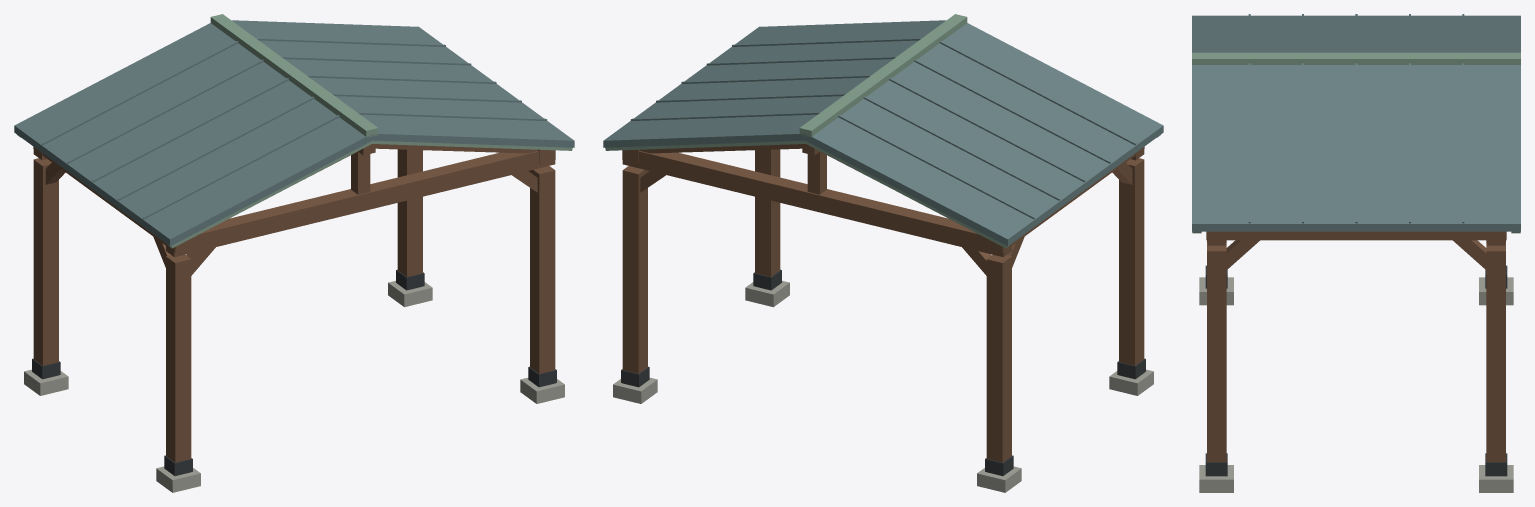
The model's file is canopy.glb.
3 views of the same model, side by side, from view 1: azimuth 30°, elevation 25°; view 2: azimuth 150°, elevation 25°; view 3: azimuth 270°, elevation 25° (orthographic). The views are drawn at different scales.
Visible parts, largest first — view 1: Roof_Canopy_Panel_-1, Roof_Canopy_Panel_1, canopy_Tie-col.001, canopy_Post-col.001, canopy_Post-col.003, canopy_Post-col, Roof_canopy_Cap, canopy_Post-col.002, canopy_PrincipalRafter-col.003, canopy_Kingpost-col.001, canopy_Pad-col, canopy_Pad-col.002 (+9 smaller); view 2: Roof_Canopy_Panel_-1, Roof_Canopy_Panel_1, canopy_Tie-col, canopy_Post-col, canopy_Post-col.002, canopy_Post-col.001, Roof_canopy_Cap, canopy_Post-col.003, canopy_PrincipalRafter-col.001, canopy_Kingpost-col, canopy_Pad-col.001, canopy_Pad-col.003 (+9 smaller); view 3: Roof_Canopy_Panel_1, Roof_Canopy_Panel_-1, canopy_Post-col.002, canopy_Post-col.003, Roof_canopy_Cap, canopy_Eave-col.001, canopy_Pad-col.002, canopy_Pad-col.003, canopy_Knee_Z-col.002, canopy_Knee_Z-col.003, Roof_canopy_StandingSeam.007, Roof_canopy_StandingSeam.005 (+5 smaller).
Part boxes in pixels (box(x1,y1,x2,y2)): Roof_Canopy_Panel_-1: box(14, 23, 372, 246); Roof_Canopy_Panel_1: box(232, 20, 574, 147); canopy_Tie-col.001: box(166, 151, 555, 257); canopy_Post-col.001: box(166, 255, 191, 476); canopy_Post-col.003: box(530, 166, 555, 386); canopy_Post-col: box(33, 158, 58, 379); Roof_canopy_Cap: box(210, 14, 378, 137); canopy_Post-col.002: box(397, 149, 422, 289); canopy_PrincipalRafter-col.003: box(375, 144, 537, 153); canopy_Kingpost-col.001: box(351, 152, 370, 194); canopy_Pad-col: box(24, 369, 68, 395); canopy_Pad-col.002: box(388, 280, 432, 307); Roof_Canopy_Panel_-1: box(805, 23, 1163, 246); Roof_Canopy_Panel_1: box(603, 20, 945, 147); canopy_Tie-col: box(622, 151, 1011, 257); canopy_Post-col: box(986, 255, 1011, 476); canopy_Post-col.002: box(622, 166, 647, 386); canopy_Post-col.001: box(1119, 158, 1144, 379); Roof_canopy_Cap: box(799, 14, 967, 137); canopy_Post-col.003: box(755, 149, 780, 289); canopy_PrincipalRafter-col.001: box(640, 144, 802, 153); canopy_Kingpost-col: box(807, 152, 826, 194); canopy_Pad-col.001: box(1109, 369, 1153, 395); canopy_Pad-col.003: box(745, 280, 789, 307); Roof_Canopy_Panel_1: box(1192, 65, 1520, 231); Roof_Canopy_Panel_-1: box(1192, 15, 1520, 52); canopy_Post-col.002: box(1486, 243, 1505, 462); canopy_Post-col.003: box(1207, 243, 1226, 462); Roof_canopy_Cap: box(1192, 52, 1520, 64); canopy_Eave-col.001: box(1206, 231, 1506, 240); canopy_Pad-col.002: box(1479, 465, 1513, 492); canopy_Pad-col.003: box(1199, 465, 1233, 492); canopy_Knee_Z-col.002: box(1453, 240, 1486, 269); canopy_Knee_Z-col.003: box(1226, 240, 1259, 269); Roof_canopy_StandingSeam.007: box(1355, 63, 1357, 223); Roof_canopy_StandingSeam.005: box(1462, 63, 1464, 223).
Size of the model in its own units: 6 by 4.51 by 4.
